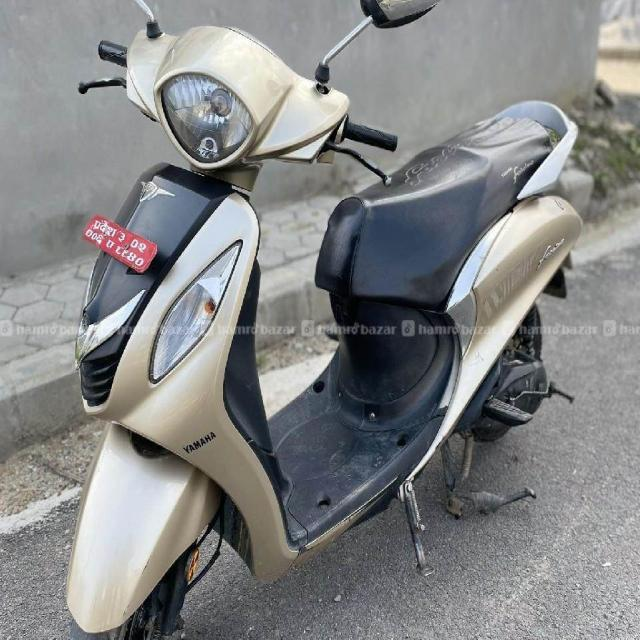License-plate: (81, 210, 161, 288)
